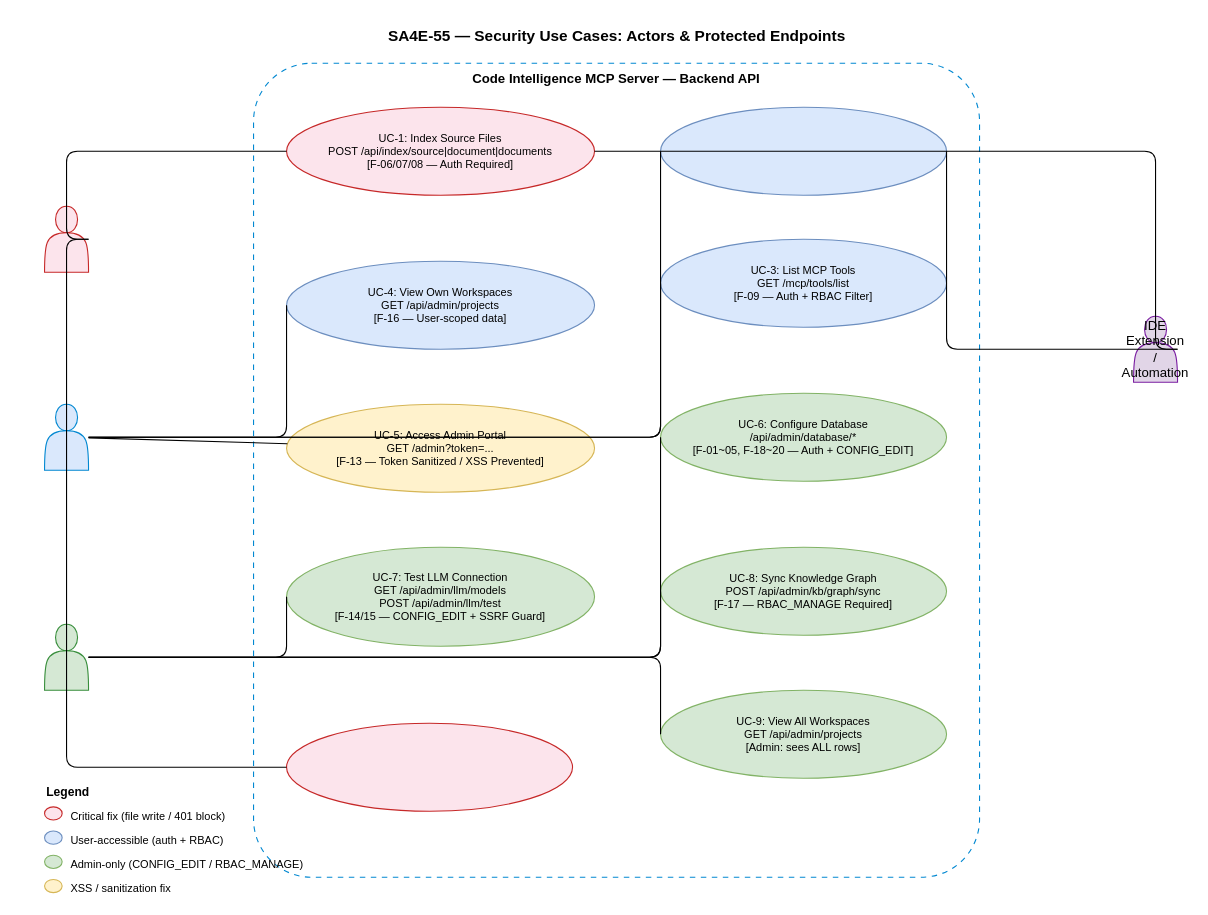
Some shapes in this 1208 by 915 pixel diagram are drawn without their labels. Here are the shapes that lost their labels. From the top down, the box of each, then its label:
(659, 106, 947, 195): UC-2: Call MCP Tools POST /mcp/tools/call [F-10 — Verified Identity]
(43, 205, 89, 272): Unauthenticated Caller
(43, 403, 89, 470): Regular User (e.g., duc.nguyen.10)
(43, 623, 89, 690): Admin User
(285, 722, 573, 811): UC-10: Reject Unauthenticated Any protected endpoint → 401 Unauthorized
